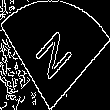N_SW: (32, 23, 78, 87)
